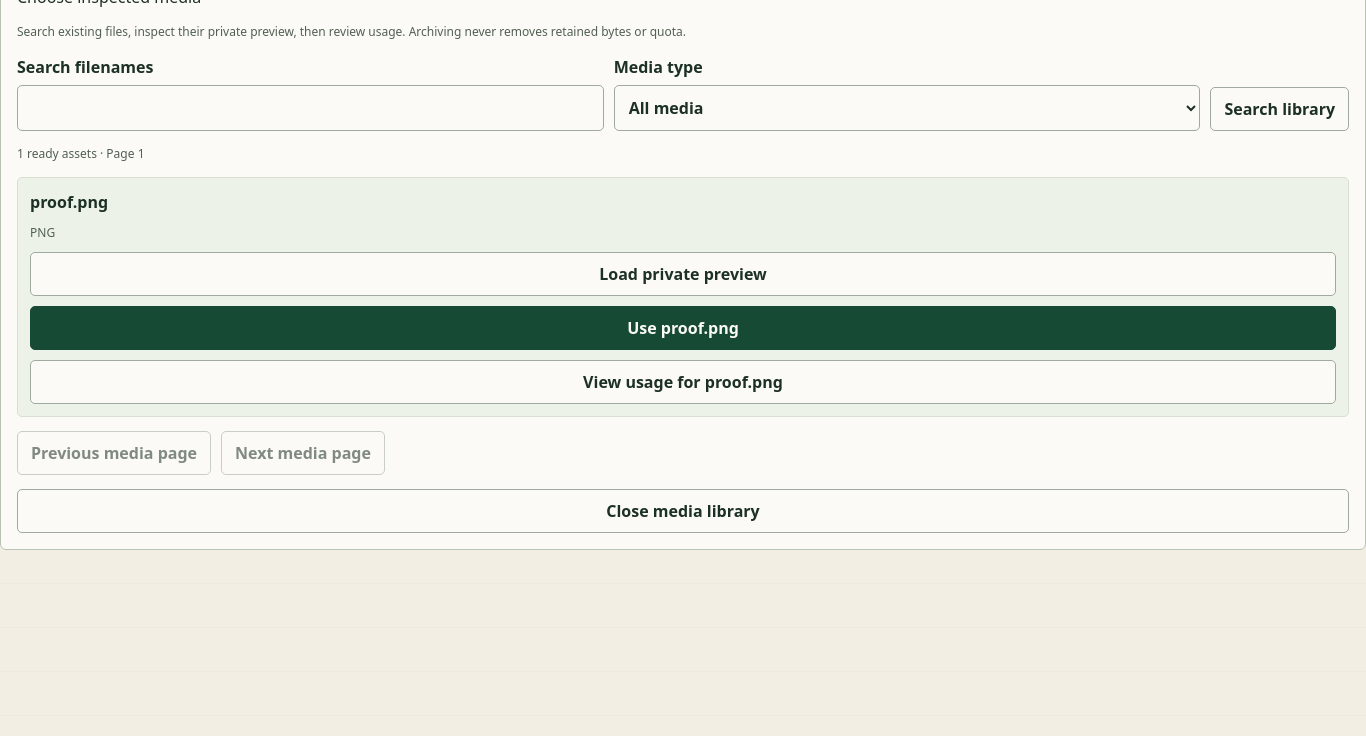
Test case: usage detail and explicit archive preserve the original command on ambiguous retry
Click the button "View usage for proof.png".
click(683, 382)  # box x1=30 y1=360 x2=1336 y2=404
(page scrolled)
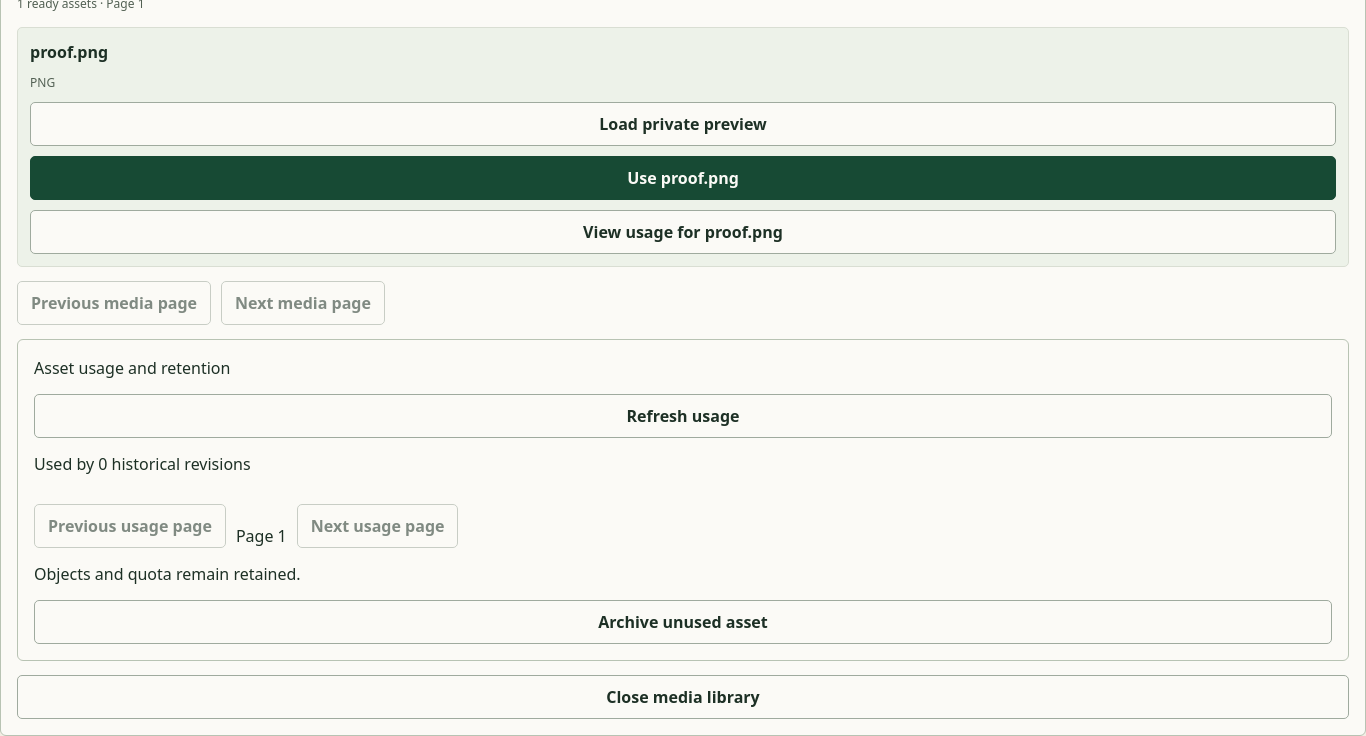
Expected: the text "Used by 0 historical revisions" is shown, x1=34 y1=453 x2=251 y2=475
Click the button "Archive unused asset".
click(683, 622)  # box x1=34 y1=600 x2=1332 y2=644
(page scrolled)
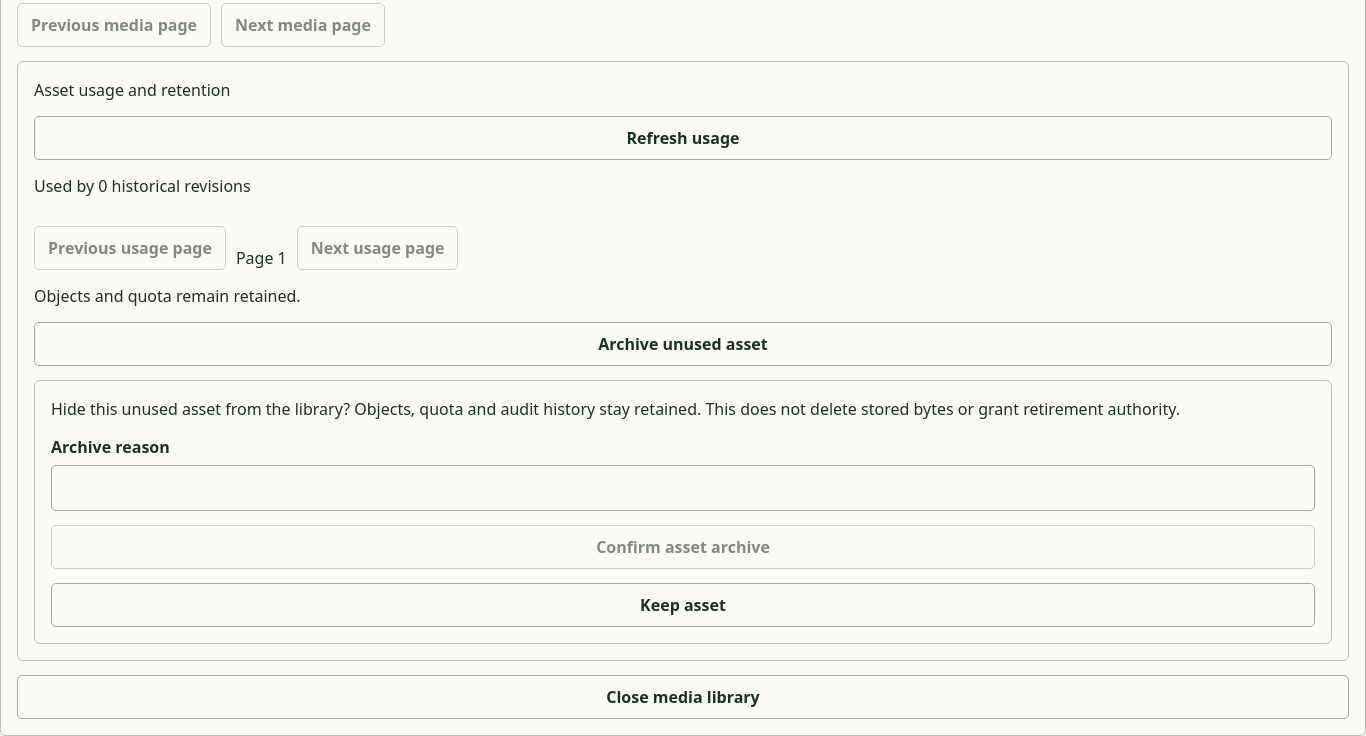
Type "Unused editorial asset" into the field labelled "Archive reason".
click(683, 488); type("Unused editorial asset")  # box x1=51 y1=465 x2=1315 y2=511
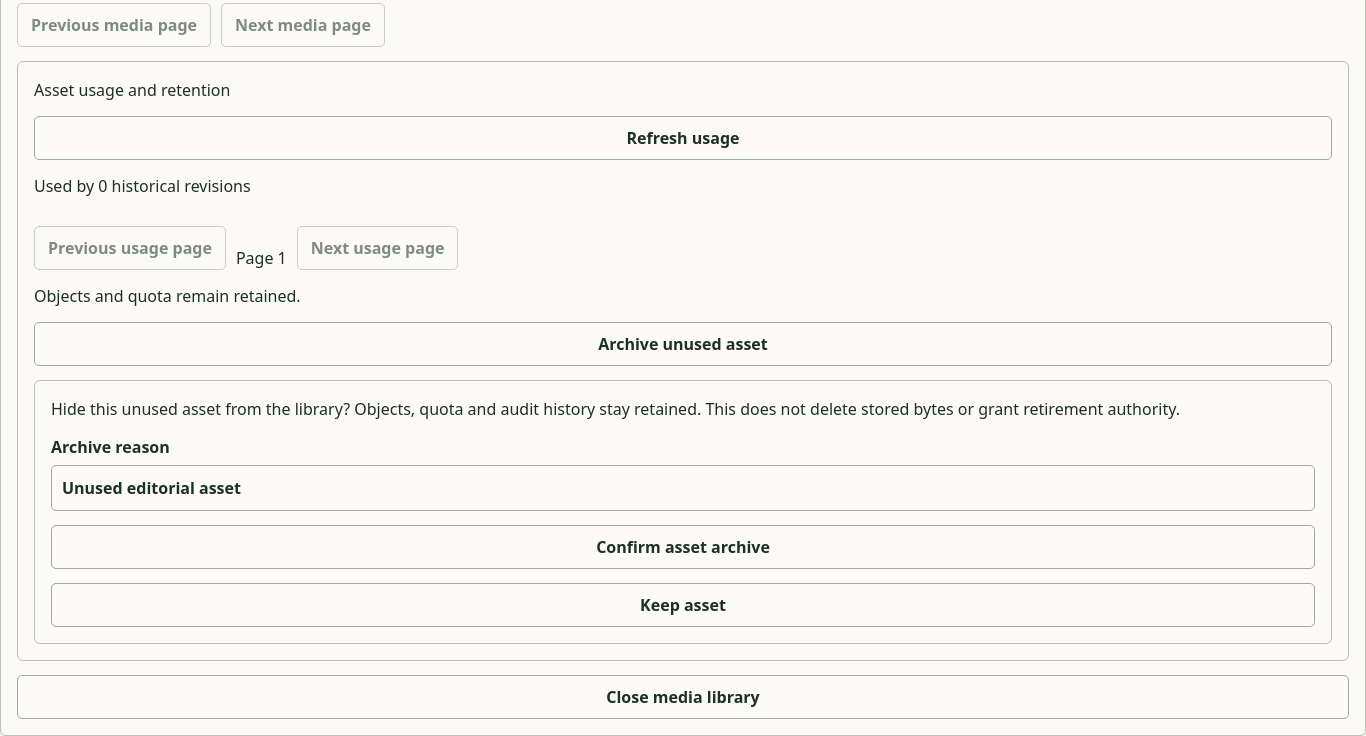
Click the button "Confirm asset archive".
click(683, 547)  # box x1=51 y1=525 x2=1315 y2=569
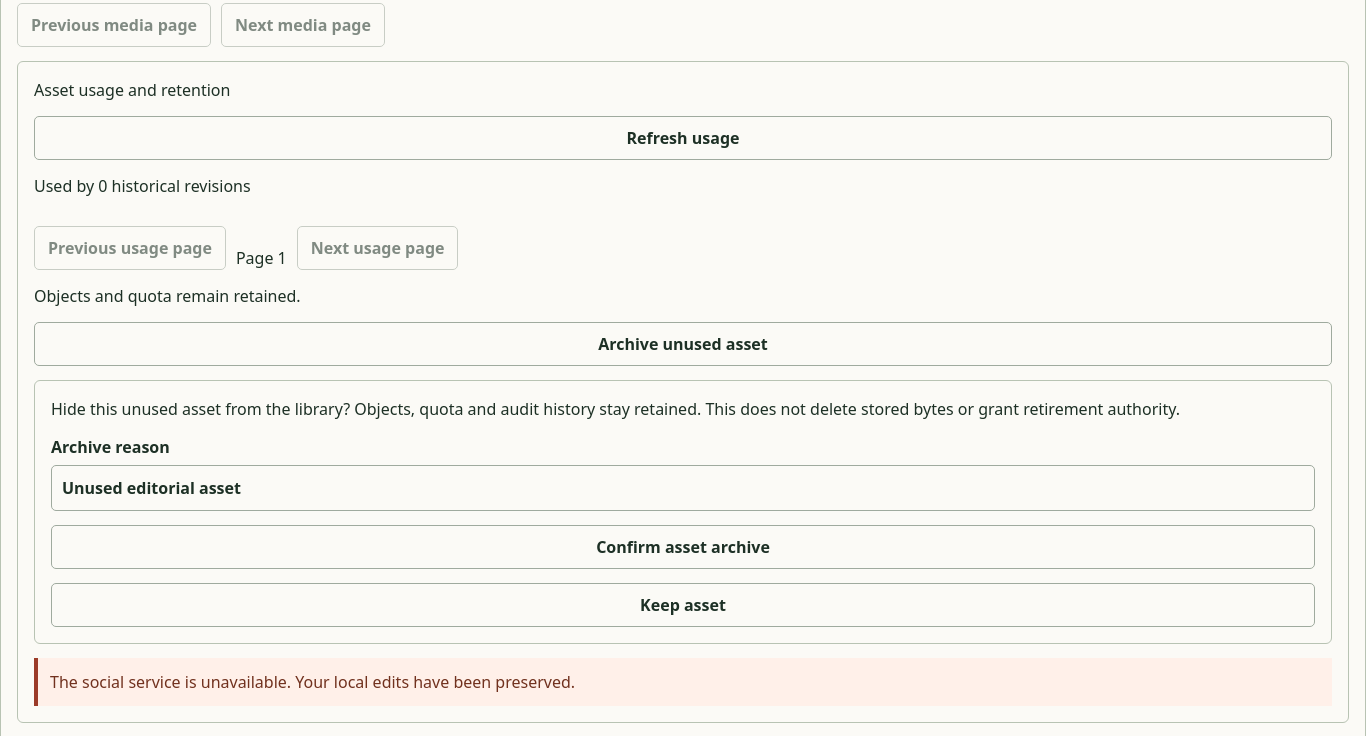
Expected: the button "Confirm asset archive" is enabled
Click the button "Confirm asset archive".
click(683, 547)  # box x1=51 y1=525 x2=1315 y2=569
(page scrolled)
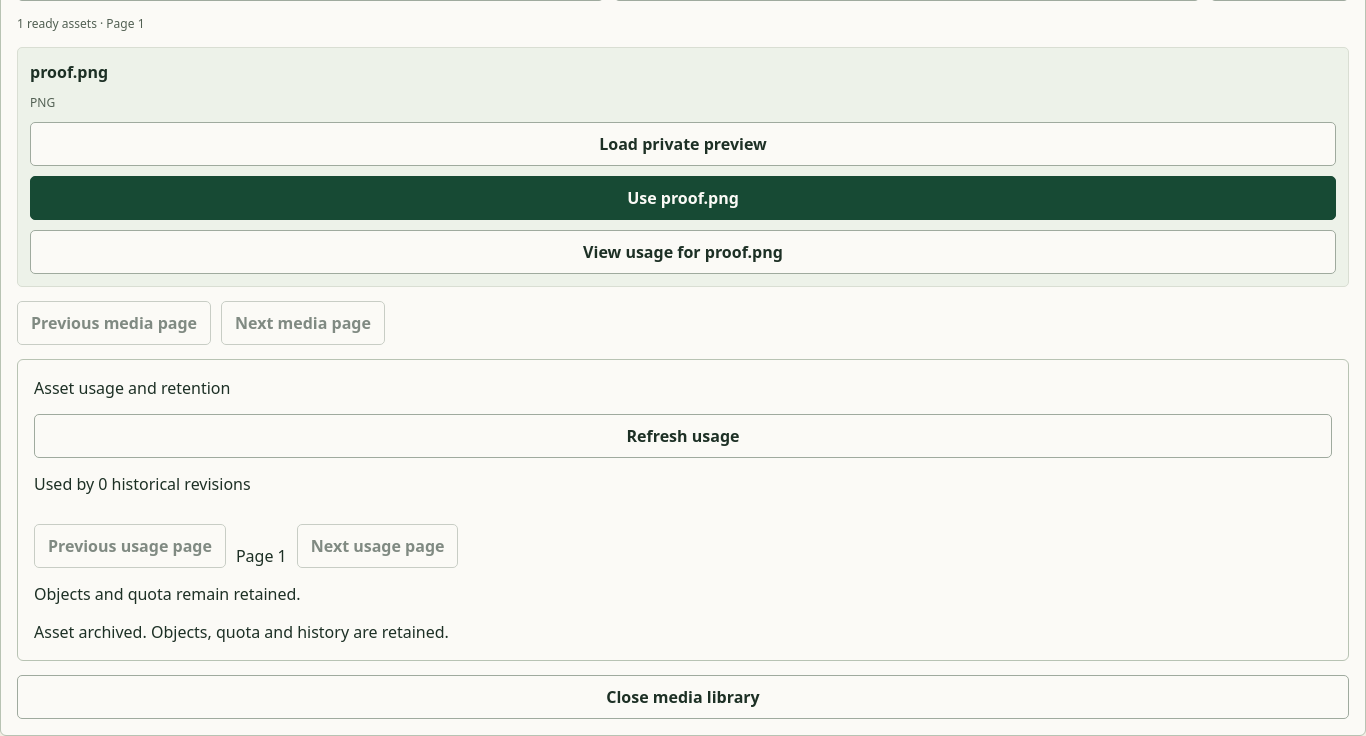
Expected: the text "Asset archived. Objects, quota and history are retained." is shown, x1=34 y1=621 x2=449 y2=643
